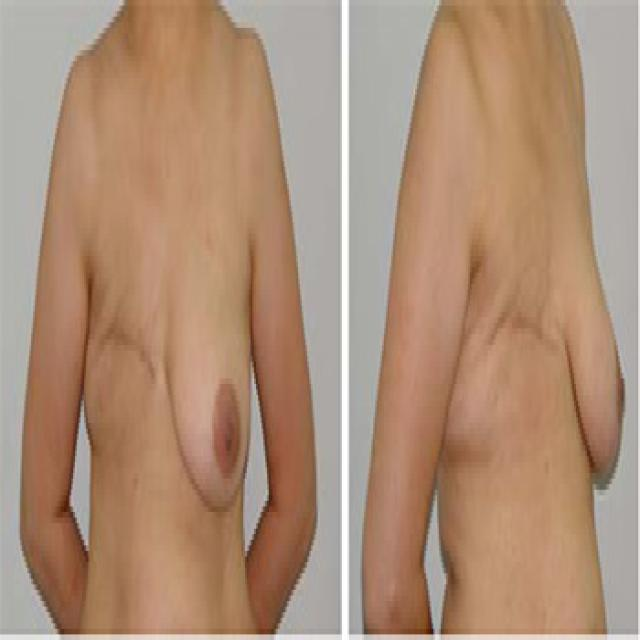Seno herido: (451, 197, 562, 520), (81, 244, 163, 495)
Seno ileso: (164, 244, 254, 542), (563, 206, 628, 520)
